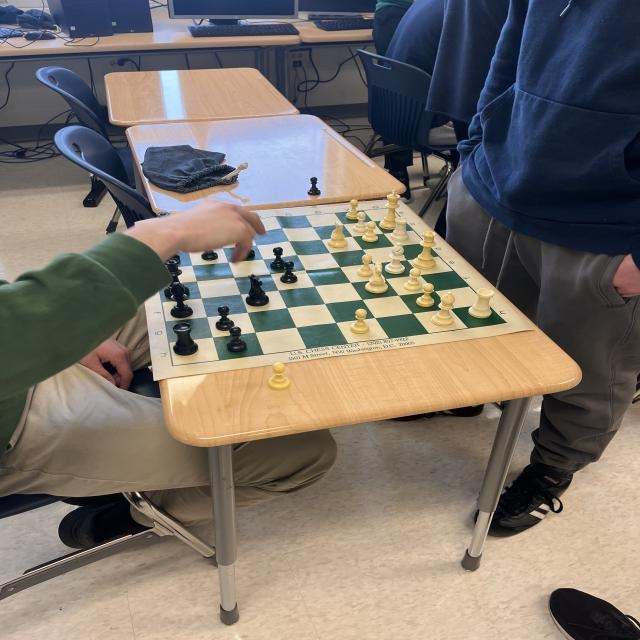black-bishop: (168, 282, 193, 318)
black-knight: (245, 273, 270, 306)
black-pawn: (225, 327, 247, 353), (214, 305, 233, 331), (280, 260, 297, 284), (270, 246, 286, 270), (307, 176, 321, 195)
black-queen: (163, 258, 188, 298)
black-rook: (172, 323, 200, 355)
white-bishop: (432, 290, 455, 325), (386, 242, 406, 273)
white-king: (378, 190, 401, 229)
white-knight: (364, 262, 387, 294), (327, 219, 348, 248)
white-pawn: (267, 362, 289, 390), (350, 307, 370, 334), (403, 268, 423, 292), (416, 283, 435, 307), (357, 254, 375, 277), (362, 221, 378, 242), (352, 211, 368, 232), (345, 199, 359, 219)
white-queen: (411, 231, 436, 269)
white-rook: (469, 288, 495, 318), (390, 216, 410, 241)
